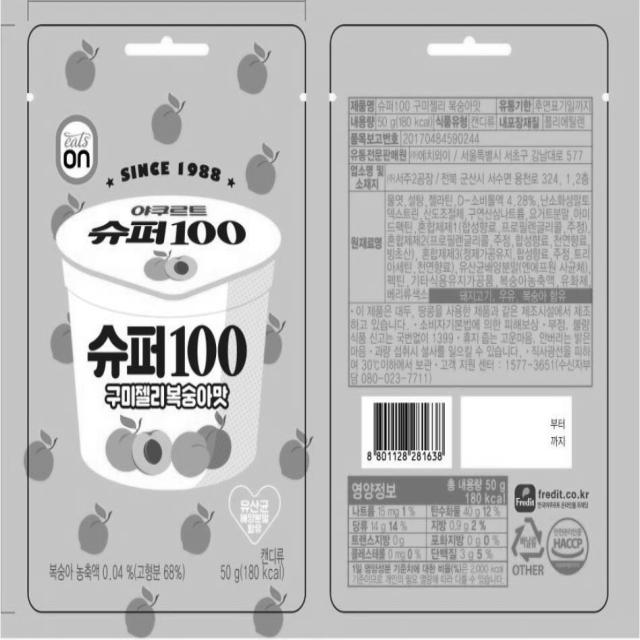Nutrition Label: (340, 468, 510, 601)
